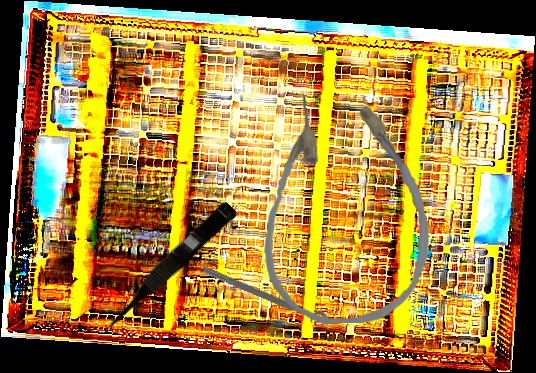Cannula: (259, 91, 432, 326)
Fixation Ring: (197, 262, 332, 336)
Micro Scissor: (94, 196, 239, 338)
